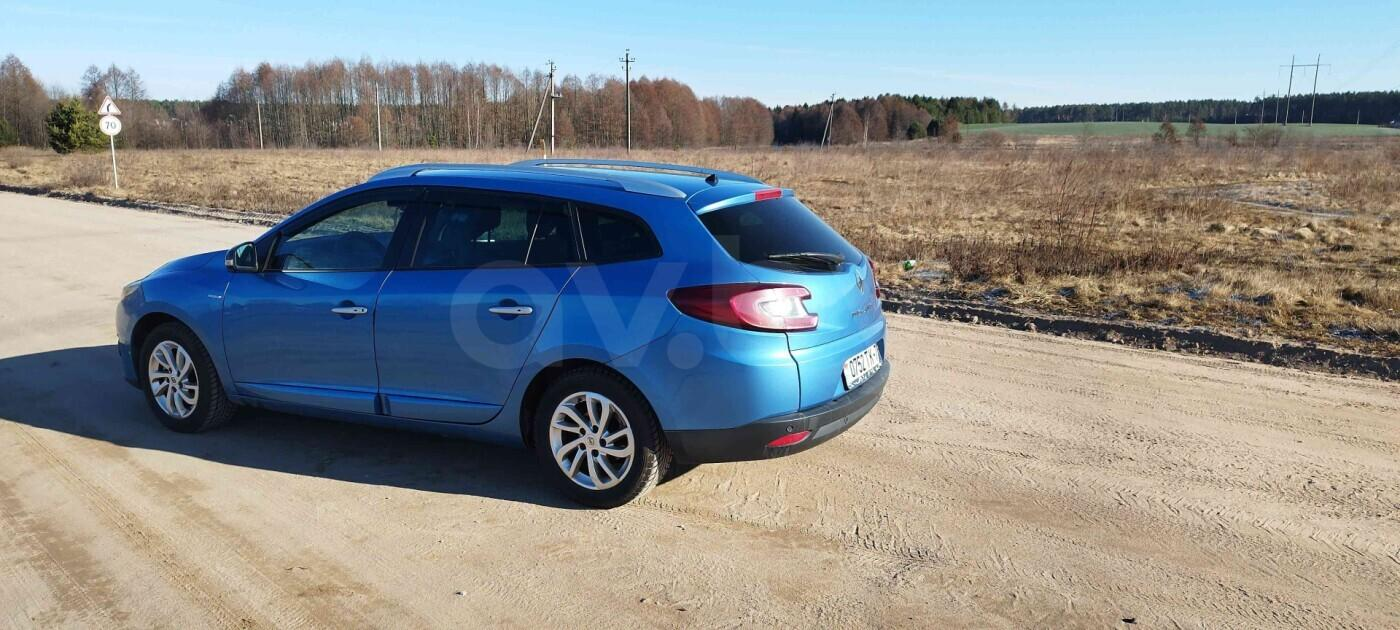Megane_2014-2016: (115, 157, 891, 515)
